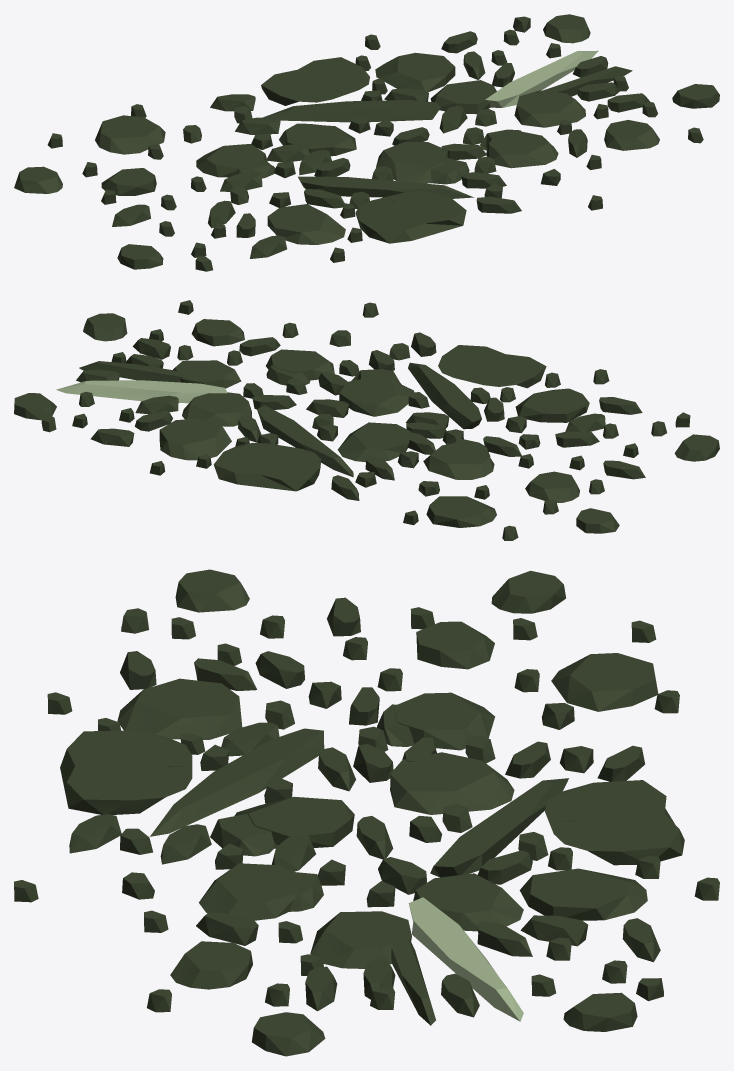
File: EA_Swamp_Stones_04a.glb
3 views of the same model, one above another, from view 1: azimuth 30°, elevation 25°; view 2: azimuth 150°, elevation 25°; view 3: azimuth 270°, elevation 25° (orthographic). The views are drawn at different scales.
Visible parts, largest first — view 1: EA_Swamp_Stones_04a; view 2: EA_Swamp_Stones_04a; view 3: EA_Swamp_Stones_04a.
Part boxes in pixels (x1,y1,x2,y2): EA_Swamp_Stones_04a: (14,14,719,271); EA_Swamp_Stones_04a: (14,300,719,540); EA_Swamp_Stones_04a: (14,569,719,1056).
Bounding box in the file's own units: 9.29 × 0.1394 × 5.84.
1 material, 1 textured.
